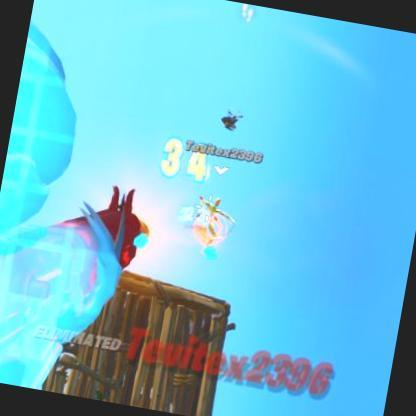person: (190, 190, 234, 258)
